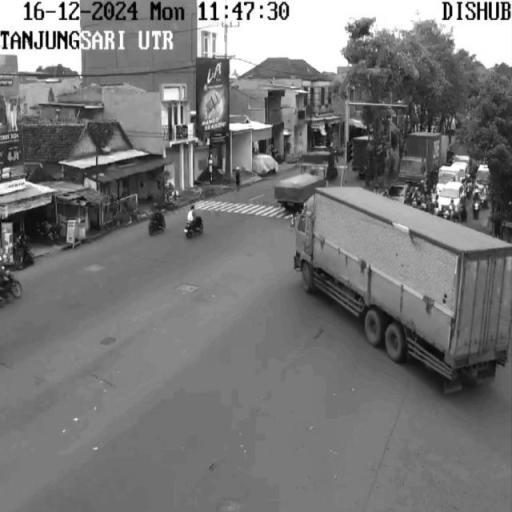truck: (297, 190, 512, 386), (277, 157, 340, 210)
